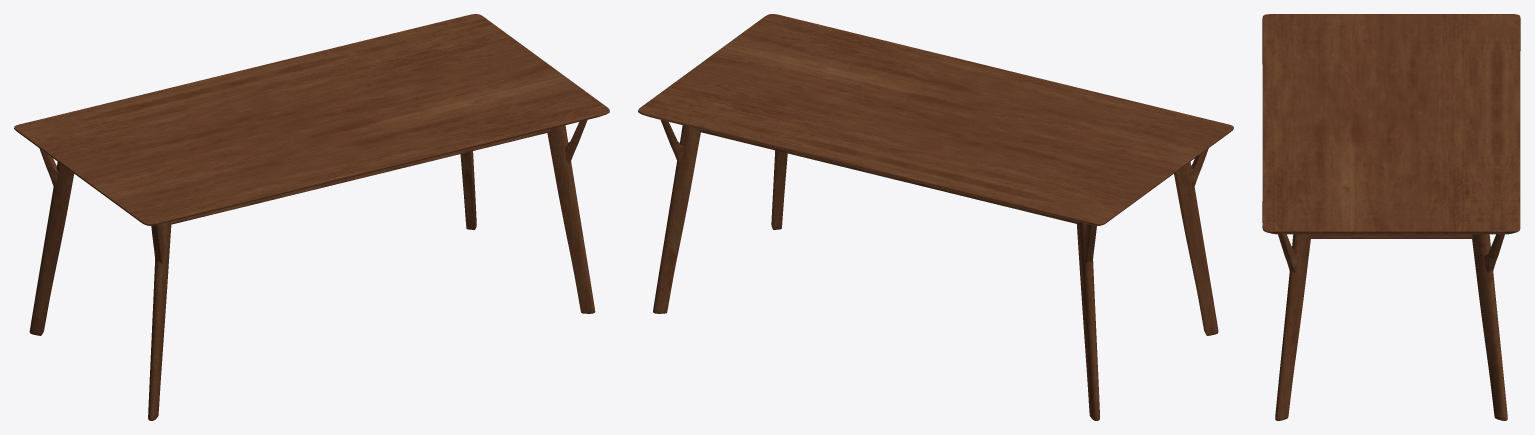
Rendered from LGLY3140_v6_LOD2.obj.
3 renders of one model, left to right at view 1: azimuth 30°, elevation 25°; view 2: azimuth 150°, elevation 25°; view 3: azimuth 270°, elevation 25°, orthographic. The views are drawn at different scales.
Parts seen in each view (by area): view 1: not_clear_obj_0_v6; view 2: not_clear_obj_0_v6; view 3: not_clear_obj_0_v6.
Boxes of the visible parts, <box> form: not_clear_obj_0_v6: <box>14,14,609,420</box>; not_clear_obj_0_v6: <box>638,14,1233,420</box>; not_clear_obj_0_v6: <box>1262,14,1520,420</box>.
Size of what is drawn, in the model's own units: 180 by 75.72 by 90.64.
Materials: 1 (1 with a texture image).
